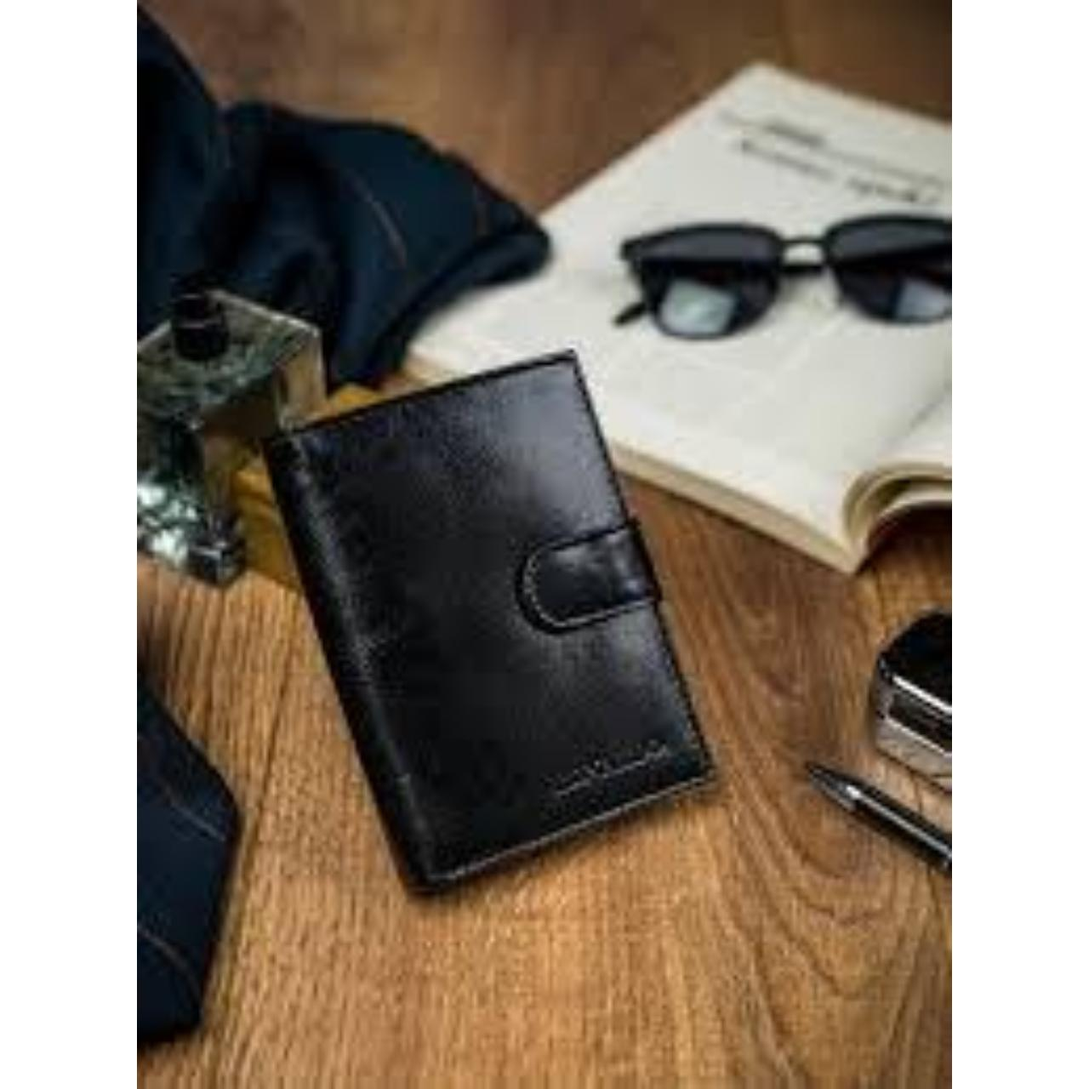wallet: (248, 364, 795, 885)
